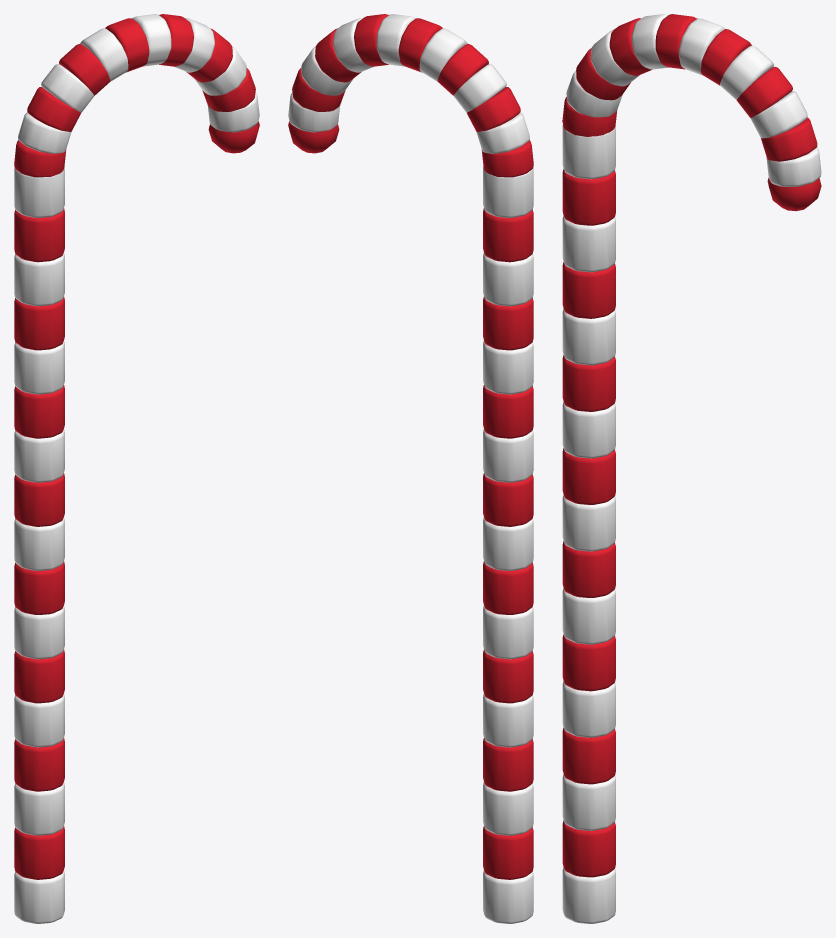
The model's file is candy_cane.glb.
3 views of the same model, side by side, from view 1: azimuth 30°, elevation 25°; view 2: azimuth 150°, elevation 25°; view 3: azimuth 330°, elevation 25° (orthographic). The views are drawn at different scales.
Visible parts, largest first — view 1: candy_cane; view 2: candy_cane; view 3: candy_cane.
Part boxes in pixels (x1,y1,x2,y2): candy_cane: [14, 14, 259, 923]; candy_cane: [288, 14, 533, 923]; candy_cane: [562, 14, 821, 923].
Size of the model in its own units: 0.7348 by 2.57 by 0.14.
